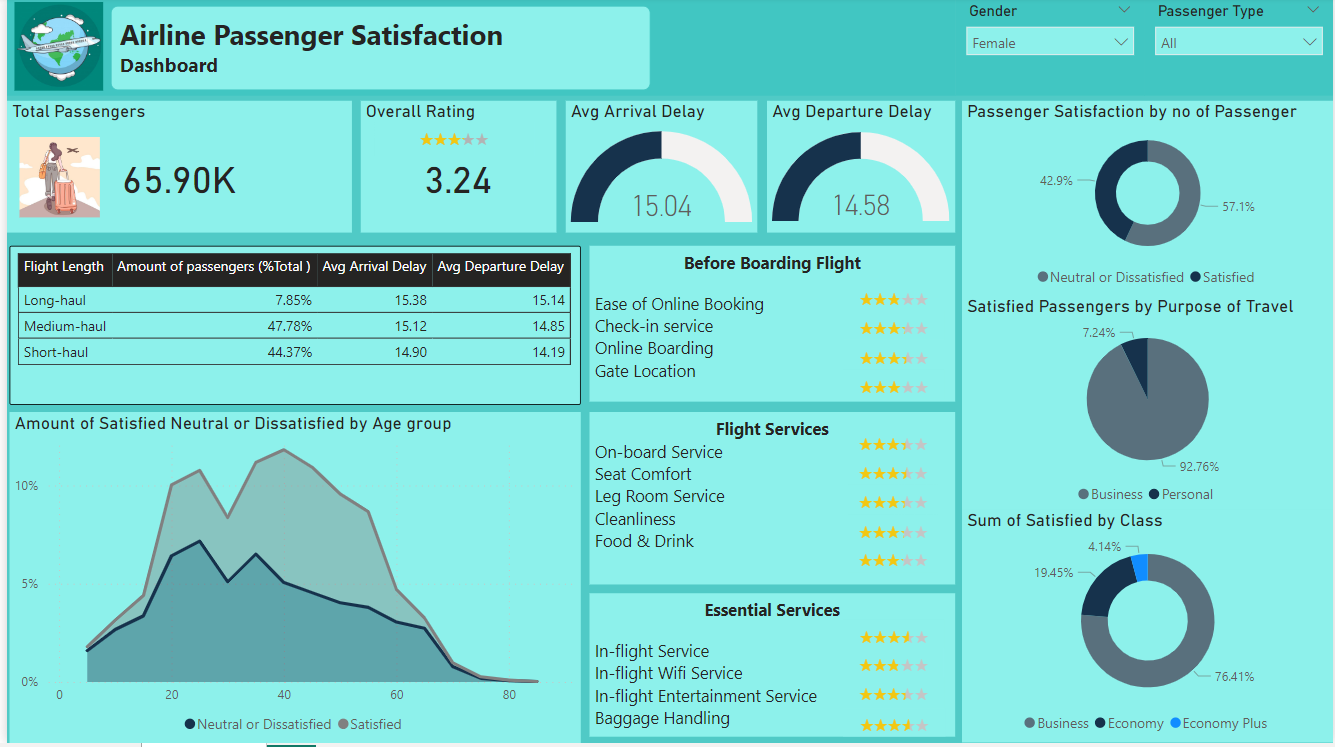

Layout of this report page (visuals, bound fields, positions):
{"tool":"powerbi","page":{"name":"Dashboard","canvas":[1280,720],"ordinal":0},"visuals":[{"type":"slicer","fields":{"Values":["airline_passenger_satisfaction.Gender"]},"box":[915.6,0,182.1,95.3],"z":0},{"type":"card","title":"Total Passengers","fields":{"Values":["airline_passenger_satisfaction.Total passengers"]},"box":[0,100.2,332.5,127.1],"z":1000},{"type":"card","title":"Overall Rating","fields":{"Values":["airline_passenger_satisfaction.Overall Rating"]},"box":[341.2,100,188.8,127.5],"z":2000},{"type":"gauge","fields":{"Y":["Avg(airline_passenger_satisfaction.Arrival Delay)"]},"box":[538.8,100,185,127.5],"z":3000},{"type":"gauge","fields":{"Y":["Avg(airline_passenger_satisfaction.Departure Delay)"]},"box":[733.8,100,181.2,127.5],"z":4000},{"type":"donutChart","title":"Passenger Satisfaction by no of Passenger","fields":{"Y":["airline_passenger_satisfaction.Total passengers"],"Category":["airline_passenger_satisfaction.Satisfaction"]},"box":[921.2,100,358.8,188.8],"z":5000},{"type":"pieChart","title":" Satisfied Passengers by Purpose of Travel","fields":{"Category":["airline_passenger_satisfaction.Type of Travel"],"Y":["Sum(airline_passenger_satisfaction.Satisfied)"]},"box":[921.2,288.8,358.8,210],"z":6000},{"type":"donutChart","fields":{"Category":["airline_passenger_satisfaction.Class"],"Y":["Sum(airline_passenger_satisfaction.Satisfied)"]},"box":[921.2,495,358.8,225],"z":7000},{"type":"stackedAreaChart","title":"Amount of Satisfied Neutral or Dissatisfied by Age group","fields":{"Category":["airline_passenger_satisfaction.Age group"],"Series":["airline_passenger_satisfaction.Satisfaction"],"Y":["CountNonNull(airline_passenger_satisfaction.Satisfaction)"]},"box":[2.5,400,551.2,320],"z":8000},{"type":"tableEx","fields":{"Values":["airline_passenger_satisfaction.Flight Distance Group","airline_passenger_satisfaction.Total passengers","Avg(airline_passenger_satisfaction.Arrival Delay)","Avg(airline_passenger_satisfaction.Departure Delay)"]},"box":[2.5,240,551.2,153.8],"z":9000},{"type":"slicer","fields":{"Values":["airline_passenger_satisfaction.Customer Type"]},"box":[1097.7,0,182.1,95.3],"z":10000},{"type":"textbox","box":[562.5,240,352.5,150],"z":11000},{"type":"ratingsvisual001","fields":{"measure":["airline_passenger_satisfaction.Avg Ease of Online Booking"]},"box":[806.8,275,97.8,28],"z":12000},{"type":"ratingsvisual001","fields":{"measure":["airline_passenger_satisfaction.Avg Check-in Service"]},"box":[806.8,303.2,97.8,28],"z":13000},{"type":"ratingsvisual001","fields":{"measure":["airline_passenger_satisfaction.Avg Online Boarding"]},"box":[806.8,331.3,97.8,28],"z":14000},{"type":"ratingsvisual001","fields":{"measure":["airline_passenger_satisfaction.Avg Gate Location"]},"box":[806.8,359.4,97.8,28],"z":15000},{"type":"textbox","box":[562.5,400,352.5,166.2],"z":16000},{"type":"textbox","box":[562.5,575,352.5,138.8],"z":17000},{"type":"ratingsvisual001","fields":{"measure":["airline_passenger_satisfaction.Avg On-board service"]},"box":[811.7,414.4,86.8,28.1],"z":18000},{"type":"ratingsvisual001","fields":{"measure":["airline_passenger_satisfaction.Avg Seat Comfort"]},"box":[811.7,442.5,86.8,28.1],"z":19000},{"type":"ratingsvisual001","fields":{"measure":["airline_passenger_satisfaction.Avg leg room service"]},"box":[811.7,470.6,86.8,28.1],"z":20000},{"type":"ratingsvisual001","fields":{"measure":["airline_passenger_satisfaction.Avg Cleanliness"]},"box":[811.7,498.7,86.8,28.1],"z":21000},{"type":"ratingsvisual001","fields":{"measure":["airline_passenger_satisfaction.Average Food & Drink"]},"box":[811.7,526.9,86.8,28.1],"z":22000},{"type":"ratingsvisual001","fields":{"measure":["airline_passenger_satisfaction.Avg in-flight service"]},"box":[806.8,600.2,97.8,28],"z":23000},{"type":"ratingsvisual001","fields":{"measure":["airline_passenger_satisfaction.Avg in-flight wifi Service"]},"box":[806.8,628.3,97,28],"z":24000},{"type":"ratingsvisual001","fields":{"measure":["airline_passenger_satisfaction.Avg in-flight Entertainment"]},"box":[806.2,656.2,97.5,30],"z":25000},{"type":"ratingsvisual001","fields":{"measure":["airline_passenger_satisfaction.Avg Baggage Handling"]},"box":[806.2,686.2,98.8,27.5],"z":26000},{"type":"shape","box":[0,0,915.6,95.3],"z":27000},{"type":"textbox","box":[100.2,8.6,520.7,81.9],"z":28000},{"type":"ratingsvisual001","fields":{"measure":["airline_passenger_satisfaction.Overall Rating"]},"box":[354.5,121,154,33],"z":29000},{"type":"image","box":[0,0,100.2,95.3],"z":30000},{"type":"image","box":[2.5,130,97.5,87.5],"z":31000}]}

Visuals, with their boxes in screenshot pixels (x1, y1, x2, y2), scaled from the page's 1280x720 canvas onto the 1335x747 screenshot:
slicer - airline_passenger_satisfaction.Gender: pyautogui.locateOnScreen(955, 0, 1145, 99)
"Total Passengers" card: pyautogui.locateOnScreen(0, 104, 347, 236)
"Overall Rating" card: pyautogui.locateOnScreen(356, 104, 553, 236)
gauge - Avg(airline_passenger_satisfaction.Arrival Delay): pyautogui.locateOnScreen(562, 104, 755, 236)
gauge - Avg(airline_passenger_satisfaction.Departure Delay): pyautogui.locateOnScreen(765, 104, 954, 236)
"Passenger Satisfaction by no of Passenger" donutChart: pyautogui.locateOnScreen(961, 104, 1334, 300)
" Satisfied Passengers by Purpose of Travel" pieChart: pyautogui.locateOnScreen(961, 300, 1334, 518)
donutChart - airline_passenger_satisfaction.Class x Sum(airline_passenger_satisfaction.Satisfied): pyautogui.locateOnScreen(961, 514, 1334, 746)
"Amount of Satisfied Neutral or Dissatisfied by Age group" stackedAreaChart: pyautogui.locateOnScreen(3, 415, 577, 746)
tableEx - airline_passenger_satisfaction.Flight Distance Group x airline_passenger_satisfaction.Total passengers: pyautogui.locateOnScreen(3, 249, 577, 409)
slicer - airline_passenger_satisfaction.Customer Type: pyautogui.locateOnScreen(1145, 0, 1334, 99)
textbox: pyautogui.locateOnScreen(587, 249, 954, 405)
ratingsvisual001 - airline_passenger_satisfaction.Avg Ease of Online Booking: pyautogui.locateOnScreen(841, 285, 943, 314)
ratingsvisual001 - airline_passenger_satisfaction.Avg Check-in Service: pyautogui.locateOnScreen(841, 315, 943, 344)
ratingsvisual001 - airline_passenger_satisfaction.Avg Online Boarding: pyautogui.locateOnScreen(841, 344, 943, 373)
ratingsvisual001 - airline_passenger_satisfaction.Avg Gate Location: pyautogui.locateOnScreen(841, 373, 943, 402)
textbox: pyautogui.locateOnScreen(587, 415, 954, 587)
textbox: pyautogui.locateOnScreen(587, 597, 954, 741)
ratingsvisual001 - airline_passenger_satisfaction.Avg On-board service: pyautogui.locateOnScreen(847, 430, 937, 459)
ratingsvisual001 - airline_passenger_satisfaction.Avg Seat Comfort: pyautogui.locateOnScreen(847, 459, 937, 488)
ratingsvisual001 - airline_passenger_satisfaction.Avg leg room service: pyautogui.locateOnScreen(847, 488, 937, 517)
ratingsvisual001 - airline_passenger_satisfaction.Avg Cleanliness: pyautogui.locateOnScreen(847, 517, 937, 547)
ratingsvisual001 - airline_passenger_satisfaction.Average Food & Drink: pyautogui.locateOnScreen(847, 547, 937, 576)
ratingsvisual001 - airline_passenger_satisfaction.Avg in-flight service: pyautogui.locateOnScreen(841, 623, 943, 652)
ratingsvisual001 - airline_passenger_satisfaction.Avg in-flight wifi Service: pyautogui.locateOnScreen(841, 652, 943, 681)
ratingsvisual001 - airline_passenger_satisfaction.Avg in-flight Entertainment: pyautogui.locateOnScreen(841, 681, 943, 712)
ratingsvisual001 - airline_passenger_satisfaction.Avg Baggage Handling: pyautogui.locateOnScreen(841, 712, 944, 740)
shape: pyautogui.locateOnScreen(0, 0, 955, 99)
textbox: pyautogui.locateOnScreen(105, 9, 648, 94)
ratingsvisual001 - airline_passenger_satisfaction.Overall Rating: pyautogui.locateOnScreen(370, 126, 530, 160)
image: pyautogui.locateOnScreen(0, 0, 105, 99)
image: pyautogui.locateOnScreen(3, 135, 104, 226)
